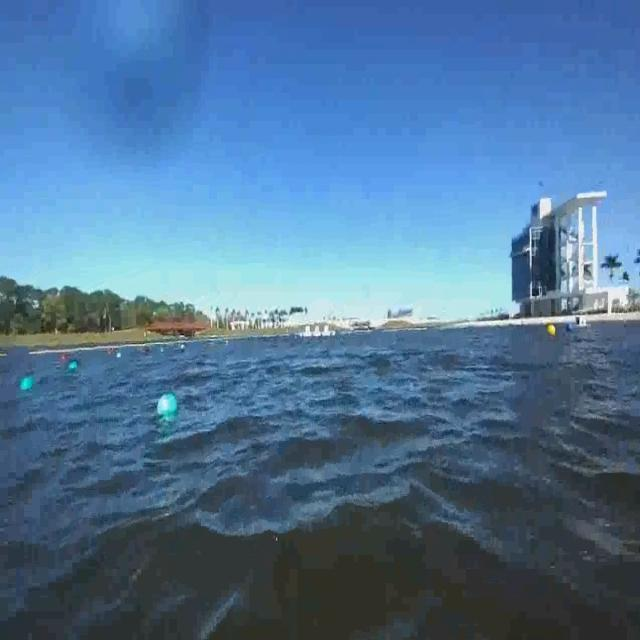blue-buoy: (566, 324, 573, 336)
green-buoy: (156, 394, 178, 420), (21, 376, 37, 391), (68, 360, 78, 371)
yellow-buoy: (548, 324, 558, 340)
